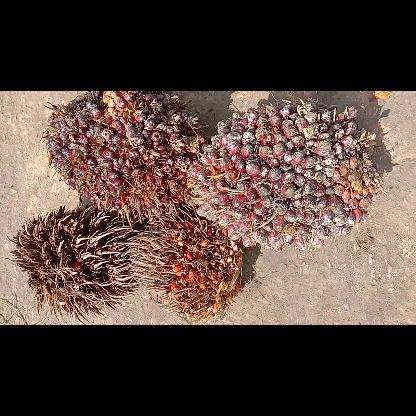Janjang kosong: (5, 204, 156, 320)
Kurang masak: (186, 98, 384, 254)
TBS masak: (40, 92, 209, 214)
Terlalu masak: (133, 216, 249, 324)
